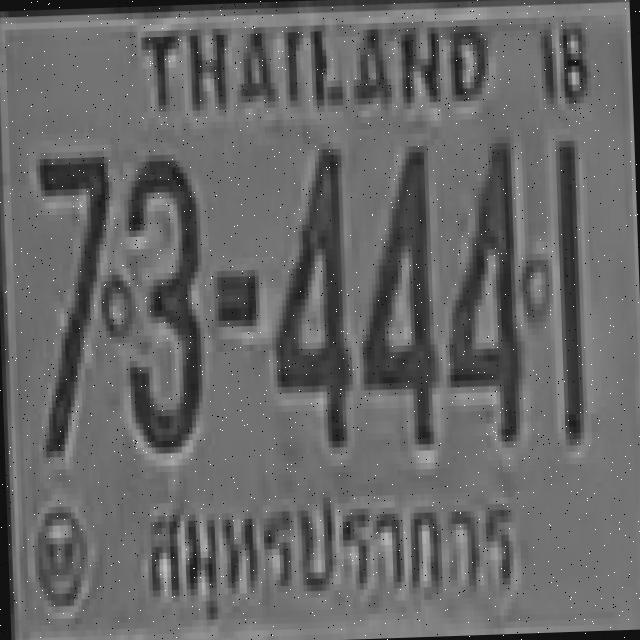1: (551, 134, 584, 439)
3: (114, 150, 204, 445)
4: (264, 142, 350, 443), (352, 142, 438, 443), (440, 133, 522, 440)
7: (32, 153, 118, 454), (36, 150, 114, 370)
SamutPrakan: (132, 481, 530, 640)
